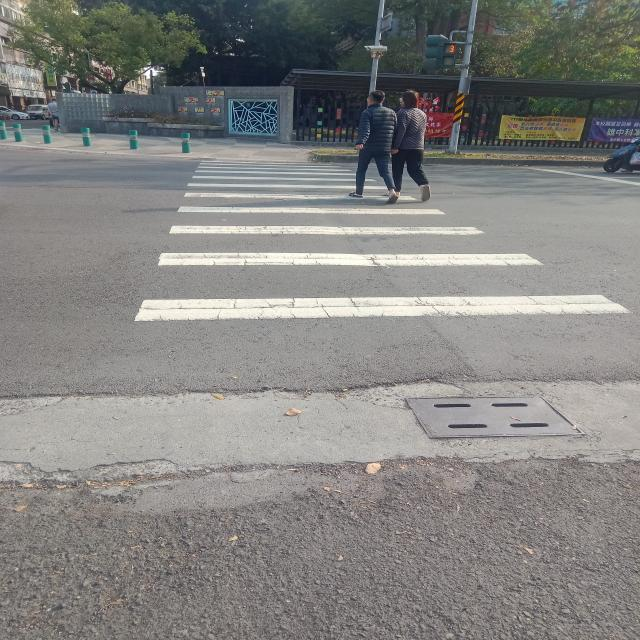person: (350, 90, 398, 204), (390, 90, 430, 201), (47, 99, 60, 131)
zebra crossing: (134, 160, 629, 318)
